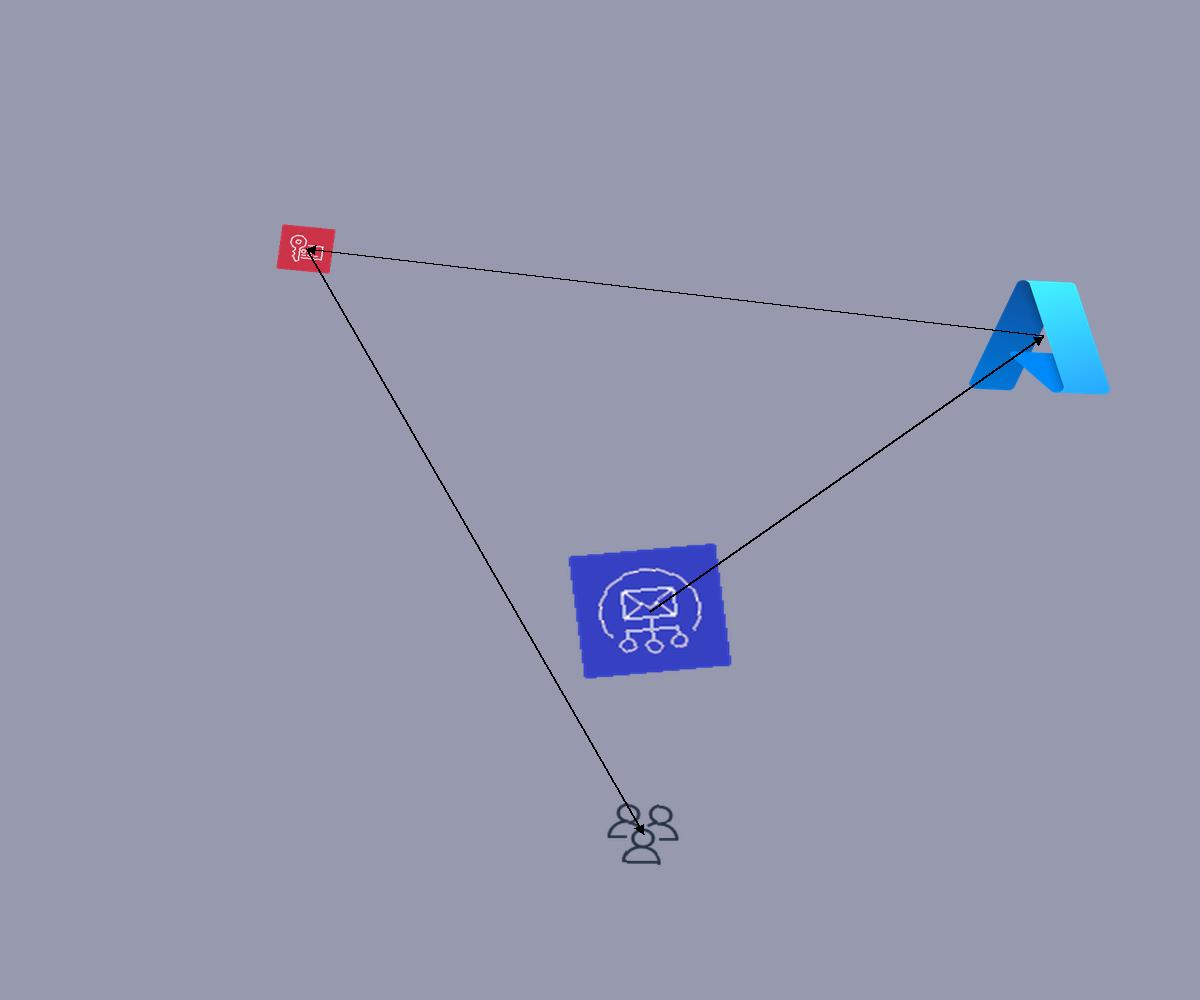AWS-Key-Management-Service: (276, 224, 336, 274)
AWS-Res_Users: (601, 799, 685, 869)
AWS-Simple-Email-Service: (567, 542, 733, 680)
Azure_services: (962, 269, 1124, 404)
